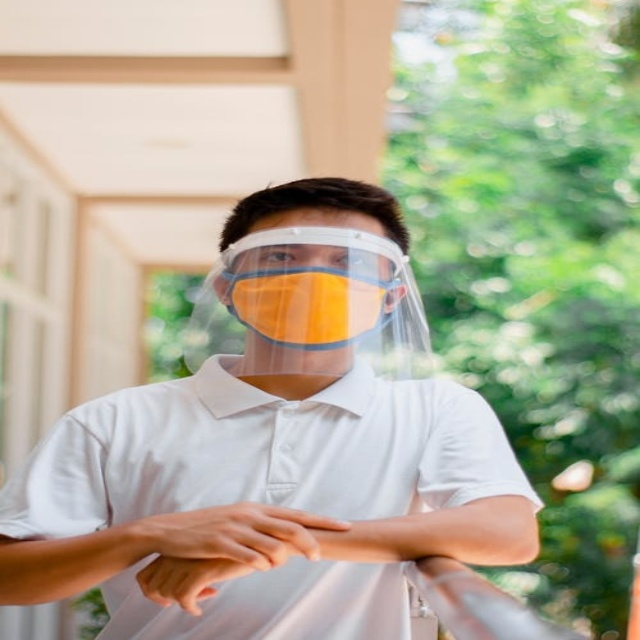Mascara: (223, 267, 397, 344)
Sin_guantes: (130, 501, 341, 614)
